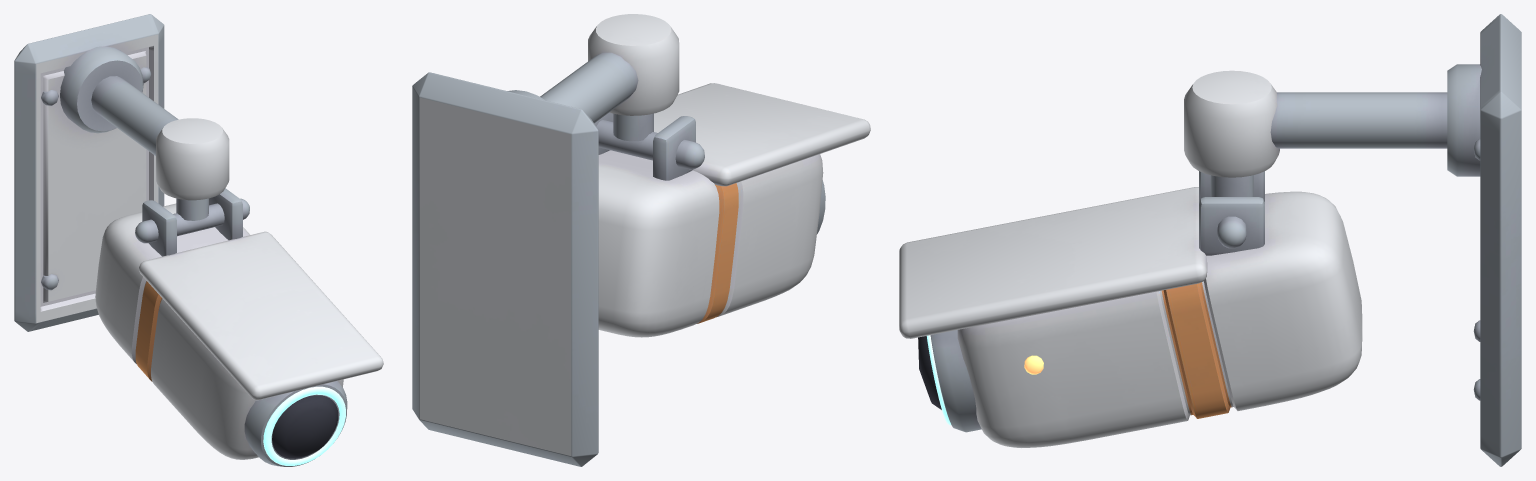
File: security-camera.glb
3 renders of one model, left to right at view 1: azimuth 30°, elevation 25°; view 2: azimuth 150°, elevation 25°; view 3: azimuth 270°, elevation 25°, orthographic. The views are drawn at different scales.
Parts seen in each view (by area): view 1: security-camera_head, security-camera_body, security-camera_head_lights_glow; view 2: security-camera_body, security-camera_head; view 3: security-camera_head, security-camera_body, security-camera_head_lights_glow.
Boxes of the visible parts, box(x1,y1,x2,y2) form: security-camera_head: box(95, 188, 383, 466); security-camera_body: box(14, 14, 229, 331); security-camera_head_lights_glow: box(263, 386, 345, 465); security-camera_body: box(412, 14, 679, 466); security-camera_head: box(594, 83, 870, 337); security-camera_head: box(899, 171, 1362, 447); security-camera_body: box(1184, 14, 1521, 466); security-camera_head_lights_glow: box(926, 335, 1043, 425).
Bounding box in the file's own units: 0.136 × 0.25 × 0.376.
4 materials, 2 textured.
